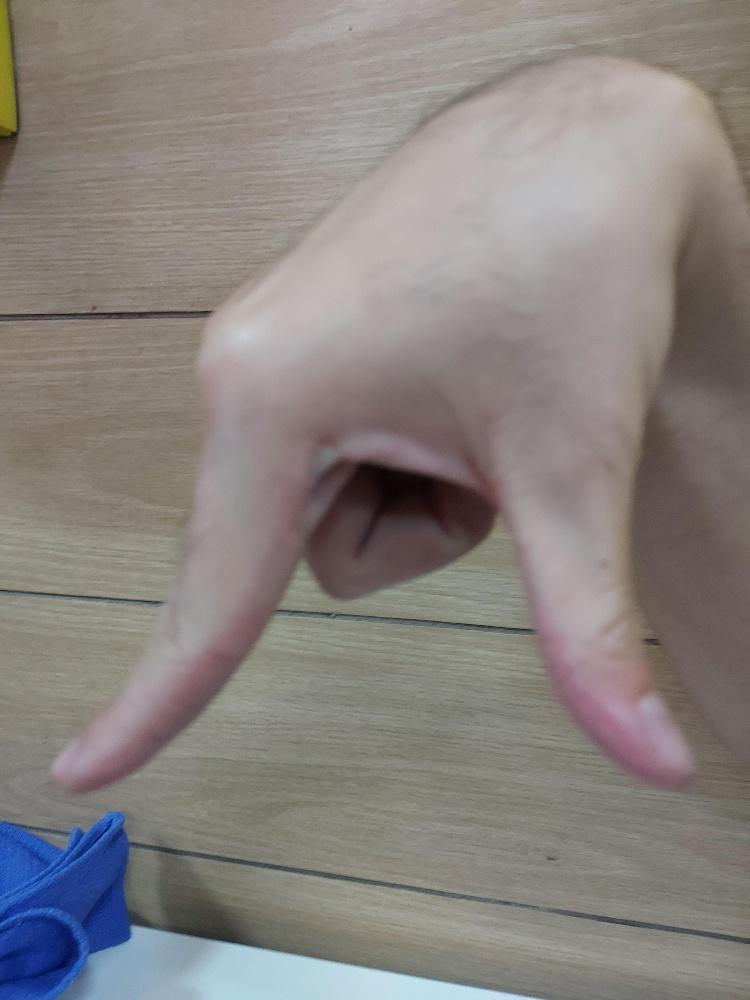q: (53, 51, 702, 790)
